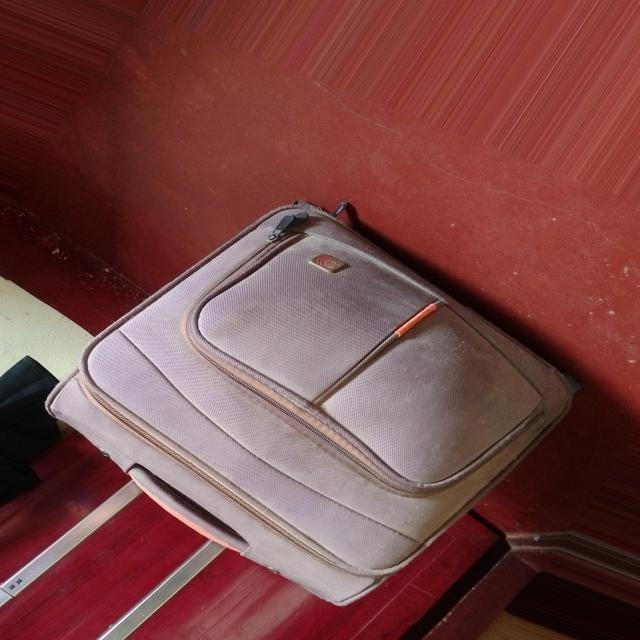Suitcase: (0, 180, 624, 640)
